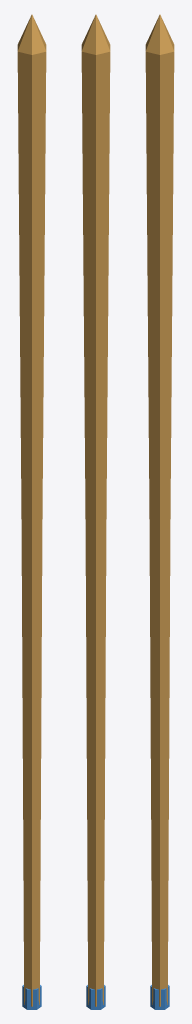
Rendered from pool_cue.glb.
3 renders of one model, left to right at view 1: azimuth 90°, elevation 25°; view 2: azimuth 150°, elevation 25°; view 3: azimuth 270°, elevation 25°, orthographic.
Parts seen in each view (by area): view 1: pool_cue; view 2: pool_cue; view 3: pool_cue.
Part boxes in pixels (<box>): pool_cue: <box>17,14,46,1009</box>; pool_cue: <box>81,14,110,1009</box>; pool_cue: <box>145,14,174,1009</box>.
Bounding box in the file's own units: 0.044 × 1.46 × 0.0381.
